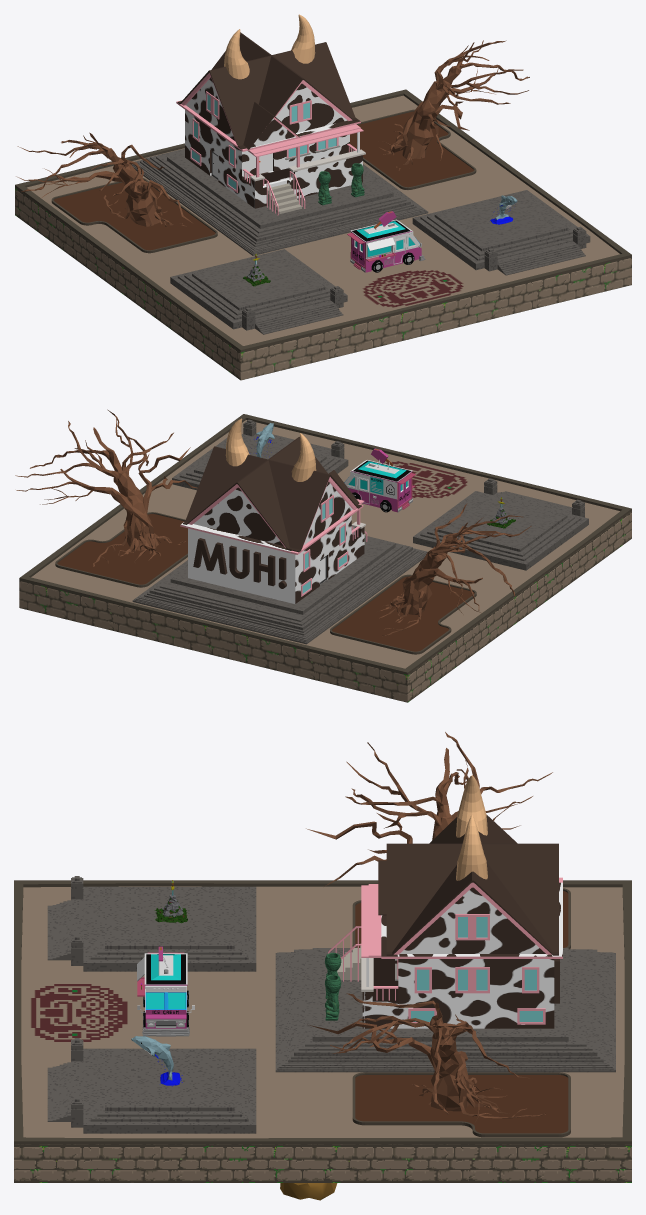
3 views of the same model, one above another, from view 1: azimuth 30°, elevation 25°; view 2: azimuth 150°, elevation 25°; view 3: azimuth 270°, elevation 25° (orthographic). The views are drawn at different scales.
Visible parts, largest first — view 1: Cube.011, Cube.1242, VEHICLES_ICE_CREAM_TRUCK; view 2: Cube.011, Cube.1242, VEHICLES_ICE_CREAM_TRUCK; view 3: Cube.011, Cube.1242, VEHICLES_ICE_CREAM_TRUCK, ANIMAL_DELFIN, UNDERGROUND_T_REX_BONES, OBJRANDOM_SWORD_IN_THE_STONE.
Part boxes in pixels (box(x1,y1,x2,y2)): Cube.011: box(15, 40, 631, 380); Cube.1242: box(176, 14, 365, 215); VEHICLES_ICE_CREAM_TRUCK: box(347, 211, 425, 272); Cube.011: box(15, 409, 631, 702); Cube.1242: box(180, 418, 367, 603); VEHICLES_ICE_CREAM_TRUCK: box(344, 448, 415, 512); Cube.011: box(14, 732, 631, 1182); Cube.1242: box(328, 775, 562, 1028); VEHICLES_ICE_CREAM_TRUCK: box(137, 946, 194, 1036); ANIMAL_DELFIN: box(131, 1036, 182, 1086); UNDERGROUND_T_REX_BONES: box(280, 1183, 337, 1200); OBJRANDOM_SWORD_IN_THE_STONE: box(154, 880, 187, 923).
Size of the model in its own units: 5099 by 2032 by 4000.
49 materials, 5 textured.
